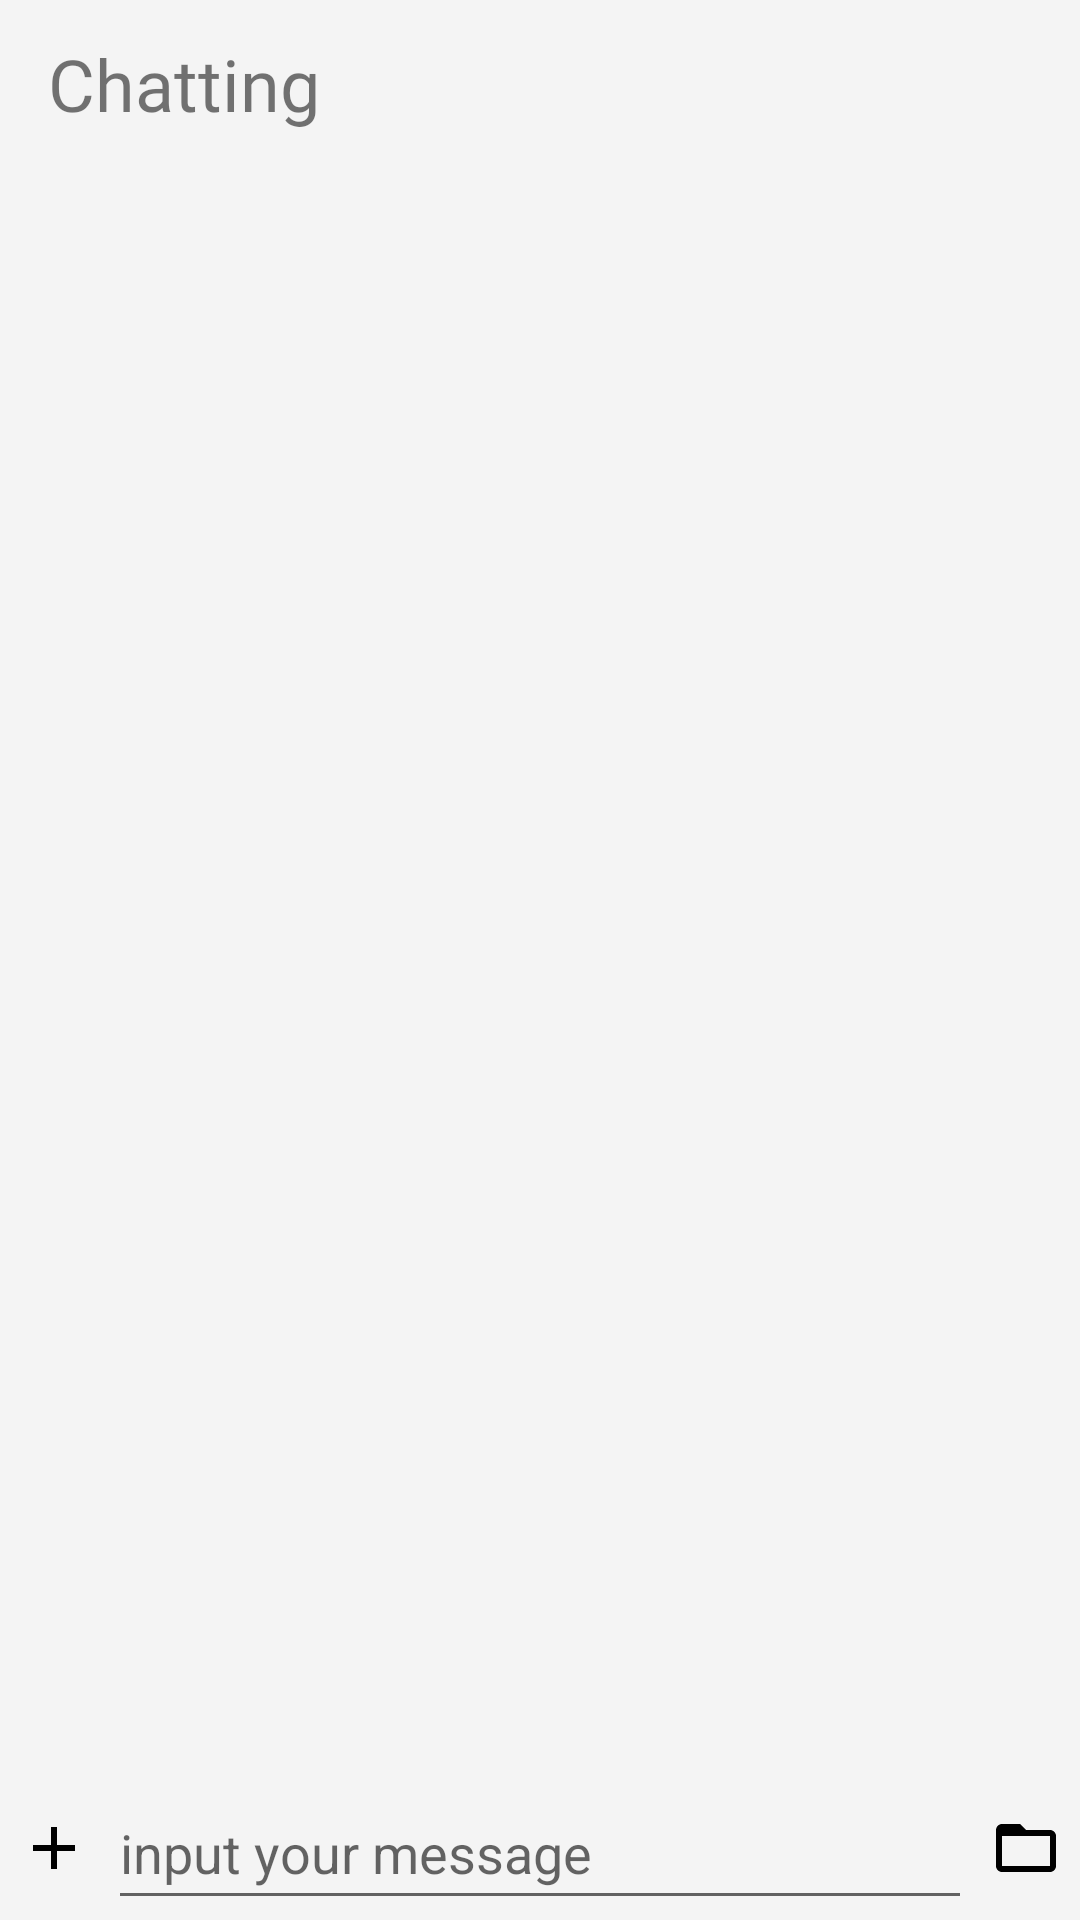

Point at icon controls on the screen. Image size 1080w x 1920h, points as point (x, y).
file: point (1026, 1848)
